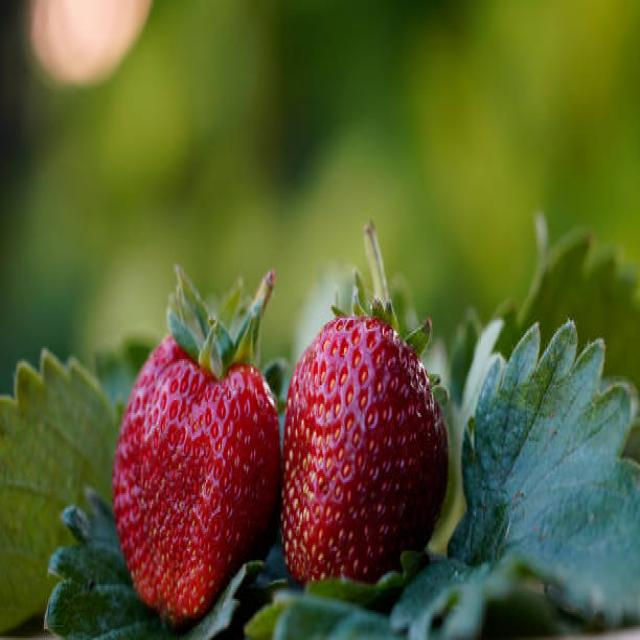Healthy Fruit: (112, 333, 284, 627), (281, 311, 448, 582)
